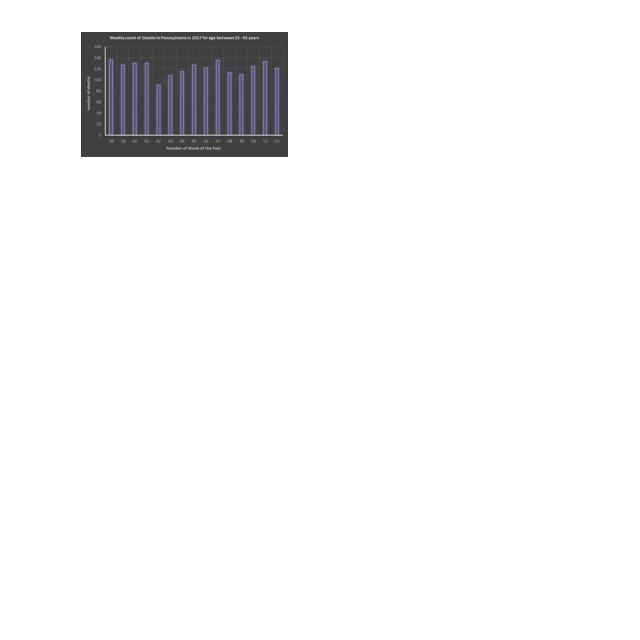Graph: (81, 32, 288, 157)
